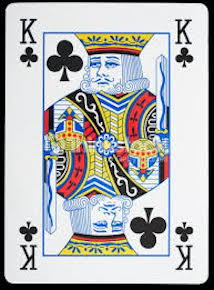KingOfClubs: (2, 2, 210, 288)
